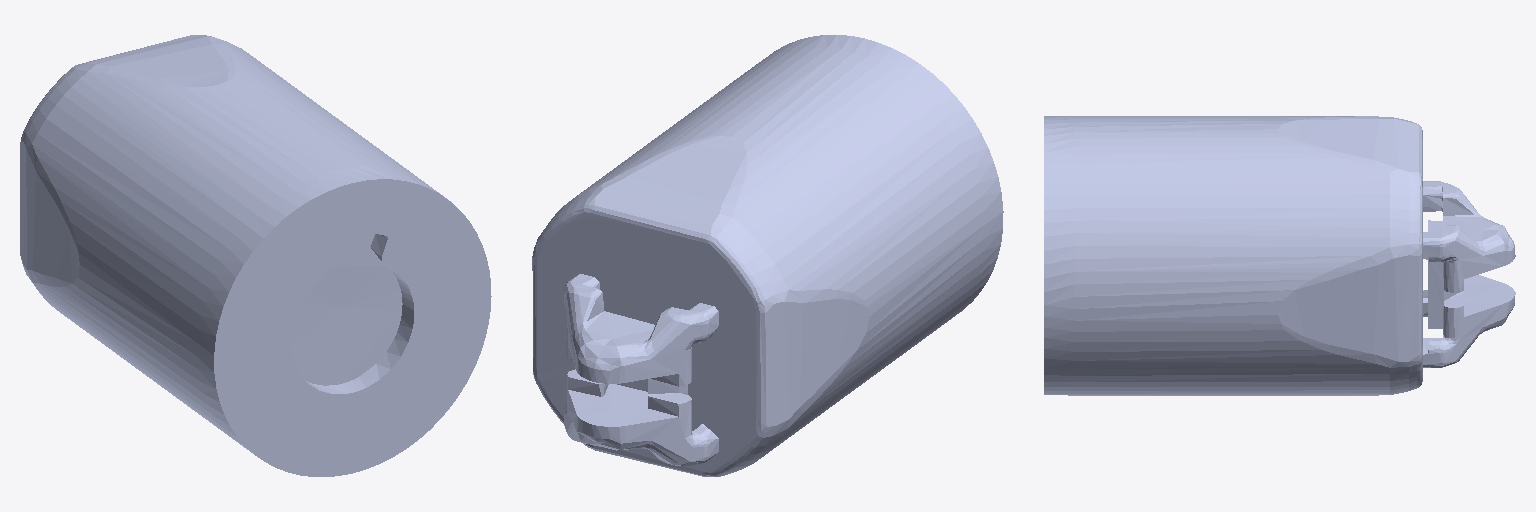
The robot description file, URDF, robot "j2s6s300":
<?xml version="1.0" ?>
<!-- =================================================================================== -->
<!-- |    This document was autogenerated by xacro from j2s6s300_standalone.xacro      | -->
<!-- |    EDITING THIS FILE BY HAND IS NOT RECOMMENDED                                 | -->
<!-- =================================================================================== -->
<!-- j2s6_3 refers to jaco v2 6DOF spherical 3fingers -->
<robot name="j2s6s300" xmlns:body="http://playerstage.sourceforge.net/gazebo/xmlschema/#body" xmlns:controller="http://playerstage.sourceforge.net/gazebo/xmlschema/#controller" xmlns:gazebo="http://playerstage.sourceforge.net/gazebo/xmlschema/#gz" xmlns:geom="http://playerstage.sourceforge.net/gazebo/xmlschema/#geom" xmlns:interface="http://playerstage.sourceforge.net/gazebo/xmlschema/#interface" xmlns:joint="http://playerstage.sourceforge.net/gazebo/xmlschema/#joint" xmlns:model="http://playerstage.sourceforge.net/gazebo/xmlschema/#model" xmlns:physics="http://playerstage.sourceforge.net/gazebo/xmlschema/#physics" xmlns:renderable="http://playerstage.sourceforge.net/gazebo/xmlschema/#renderable" xmlns:rendering="http://playerstage.sourceforge.net/gazebo/xmlschema/#rendering" xmlns:sensor="http://playerstage.sourceforge.net/gazebo/xmlschema/#sensor" xmlns:xi="http://www.w3.org/2001/XInclude">
  <!-- links      		mesh_no
   base           		0
   shoulder       		1
   arm            		2
   forearm        		3
   wrist          		4
   arm_mico       		5
   arm_half1 (7dof)		6
   arm_half2 (7dof)		7
   wrist_spherical_1  8
   wrist_spherical_2  9

   hand 3 finger  		55
   hand_2finger   		56
   finger_proximal		57
   finger_distal      58
-->
  <!-- links      		mesh_no
   base           		0
   shoulder       		1
   arm            		2
   forearm        		3
   wrist          		4
   arm_mico       		5
   arm_half1 (7dof)		6
   arm_half2 (7dof)		7
   wrist_spherical_1  8
   wrist_spherical_2  9

   hand 3 finger  		55
   hand_2finger   		56
   finger_proximal		57
   finger_distal      58
-->

  <link name="world"/>

  <link name="j2s6s300_link_base">
    <visual>
      <geometry>
        <mesh filename="meshes/jaco2arm/base.dae"/>
      </geometry>
      <material name="carbon_fiber">
        <color rgba="0.792156862745098 0.819607843137255 0.933333333333333 1"/>
      </material>
    </visual>
    <collision>
      <geometry>
        <mesh filename="meshes/jaco2arm/base.dae"/>
      </geometry>
    </collision>
    <inertial>
      <mass value="0.46784"/>
      <origin rpy="0 0 0" xyz="0 0 0.1255"/>
      <inertia ixx="0.000951270861568" ixy="0" ixz="0" iyy="0.000951270861568" iyz="0" izz="0.00037427200000000004"/>
    </inertial>
  </link>
  <joint name="j2s6s300_joint_base" type="fixed">
    <parent link="world"/>
    <child link="j2s6s300_link_base"/>
    <axis xyz="0 0 0"/>
    <limit effort="0" lower="0" upper="0" velocity="0"/>
    <origin rpy="0 0 0" xyz="0 0 0"/>
    <dynamics damping="0.0" friction="0.0"/>
  </joint>
  <link name="j2s6s300_link_1">
    <visual>
      <geometry>
        <mesh filename="meshes/jaco2arm/shoulder.dae"/>
      </geometry>
      <material name="carbon_fiber">
        <color rgba="0.792156862745098 0.819607843137255 0.933333333333333 1"/>
      </material>
    </visual>
    <visual>
      <geometry>
        <mesh filename="meshes/jaco2arm/ring_big.dae"/>
      </geometry>
    </visual>
    <collision>
      <geometry>
        <mesh filename="meshes/jaco2arm/shoulder.dae"/>
      </geometry>
    </collision>
    <inertial>
      <mass value="0.7477"/>
      <origin xyz="0 -0.002 -0.0605"/>
      <inertia ixx="0.0015203172520400004" ixy="0" ixz="0" iyy="0.0015203172520400004" iyz="0" izz="0.00059816"/>
    </inertial>
  </link>
  <joint name="j2s6s300_joint_1" type="continuous">
    <parent link="j2s6s300_link_base"/>
    <child link="j2s6s300_link_1"/>
    <axis xyz="0 0 1"/>
    <limit effort="40" lower="-6.283185307179586" upper="6.283185307179586" velocity="0.6283185307179586"/>
    <origin rpy="0 3.141592653589793 0" xyz="0 0 0.15675"/>
    <dynamics damping="0.0" friction="0.0"/>
  </joint>


  <link name="j2s6s300_link_2">
    <visual>
      <geometry>
        <mesh filename="meshes/jaco2arm/arm.dae"/>
      </geometry>
      <material name="carbon_fiber">
        <color rgba="0.792156862745098 0.819607843137255 0.933333333333333 1"/>
      </material>
    </visual>
    <visual>
      <geometry>
        <mesh filename="meshes/jaco2arm/ring_big.dae"/>
      </geometry>
    </visual>
    <collision>
      <geometry>
        <mesh filename="meshes/jaco2arm/arm.dae"/>
      </geometry>
    </collision>
    <inertial>
      <mass value="0.99"/>
      <origin xyz="0 -0.2065 -0.01"/>
      <inertia ixx="0.010502207990999999" ixy="0" ixz="0" iyy="0.0007920000000000001" iyz="0" izz="0.010502207990999999"/>
    </inertial>
  </link>
  <joint name="j2s6s300_joint_2" type="revolute">
    <parent link="j2s6s300_link_1"/>
    <child link="j2s6s300_link_2"/>
    <axis xyz="0 0 1"/>
    <limit effort="80" lower="0.8203047484373349" upper="5.462880558742252" velocity="0.6283185307179586"/>
    <origin rpy="-1.5707963267948966 0 3.141592653589793" xyz="0 0.0016 -0.11875"/>
    <dynamics damping="0.0" friction="0.0"/>
  </joint>

  <link name="j2s6s300_link_3">
    <visual>
      <geometry>
        <mesh filename="meshes/jaco2arm/forearm.dae"/>
      </geometry>
      <material name="carbon_fiber">
        <color rgba="0.792156862745098 0.819607843137255 0.933333333333333 1"/>
      </material>
    </visual>
    <visual>
      <geometry>
        <mesh filename="meshes/jaco2arm/ring_big.dae"/>
      </geometry>
    </visual>
    <collision>
      <geometry>
        <mesh filename="meshes/jaco2arm/forearm.dae"/>
      </geometry>
    </collision>
    <inertial>
      <mass value="0.6763"/>
      <origin xyz="0 0.081 -0.0086"/>
      <inertia ixx="0.0014202243190800001" ixy="0" ixz="0" iyy="0.000304335" iyz="0" izz="0.0014202243190800001"/>
    </inertial>
  </link>
  <joint name="j2s6s300_joint_3" type="revolute">
    <parent link="j2s6s300_link_2"/>
    <child link="j2s6s300_link_3"/>
    <axis xyz="0 0 1"/>
    <limit effort="40" lower="0.33161255787892263" upper="5.951572749300664" velocity="0.6283185307179586"/>
    <origin rpy="0 3.141592653589793 0" xyz="0 -0.410 0"/>
    <dynamics damping="0.0" friction="0.0"/>
  </joint>

  <link name="j2s6s300_link_4">
    <visual>
      <geometry>
        <mesh filename="meshes/jaco2arm/wrist_spherical_1.dae"/>
      </geometry>
      <material name="carbon_fiber">
        <color rgba="0.792156862745098 0.819607843137255 0.933333333333333 1"/>
      </material>
    </visual>
    <visual>
      <geometry>
        <mesh filename="meshes/jaco2arm/ring_small.dae"/>
      </geometry>
    </visual>
    <collision>
      <geometry>
        <mesh filename="meshes/jaco2arm/wrist_spherical_1.dae"/>
      </geometry>
    </collision>
    <inertial>
      <mass value="0.463"/>
      <origin xyz="0 0.0028848942 -0.0541932613"/>
      <inertia ixx="0.0004321316048000001" ixy="0" ixz="0" iyy="0.0004321316048000001" iyz="0" izz="9.260000000000001e-05"/>
    </inertial>
  </link>
  <joint name="j2s6s300_joint_4" type="continuous">
    <parent link="j2s6s300_link_3"/>
    <child link="j2s6s300_link_4"/>
    <axis xyz="0 0 1"/>
    <limit effort="20" lower="-6.283185307179586" upper="6.283185307179586" velocity="0.8377580409572781"/>
    <origin rpy="-1.5707963267948966 0 3.141592653589793" xyz="0 0.2073 -0.0114"/>
    <dynamics damping="0.0" friction="0.0"/>
  </joint>

  <link name="j2s6s300_link_5">
    <visual>
      <geometry>
        <mesh filename="meshes/jaco2arm/wrist_spherical_2.dae"/>
      </geometry>
      <material name="carbon_fiber">
        <color rgba="0.792156862745098 0.819607843137255 0.933333333333333 1"/>
      </material>
    </visual>
    <visual>
      <geometry>
        <mesh filename="meshes/jaco2arm/ring_small.dae"/>
      </geometry>
    </visual>
    <collision>
      <geometry>
        <mesh filename="meshes/jaco2arm/wrist_spherical_2.dae"/>
      </geometry>
    </collision>
    <inertial>
      <mass value="0.463"/>
      <origin xyz="0 0.0497208855 -0.0028562765"/>
      <inertia ixx="0.0004321316048000001" ixy="0" ixz="0" iyy="9.260000000000001e-05" iyz="0" izz="0.0004321316048000001"/>
    </inertial>
  </link>
  <joint name="j2s6s300_joint_5" type="revolute">
    <parent link="j2s6s300_link_4"/>
    <child link="j2s6s300_link_5"/>
    <axis xyz="0 0 1"/>
    <limit effort="20" lower="0.5235987755982988" upper="5.759586531581287" velocity="0.8377580409572781"/>
    <origin rpy="1.5707963267948966 0 3.141592653589793" xyz="0 0 -0.10375"/>
    <dynamics damping="0.0" friction="0.0"/>
  </joint>

  <link name="j2s6s300_link_6">
    <visual>
      <geometry>
        <mesh filename="meshes/jaco2arm/hand_3finger.dae"/>
      </geometry>
      <material name="carbon_fiber">
        <color rgba="0.792156862745098 0.819607843137255 0.933333333333333 1"/>
      </material>
    </visual>
    <visual>
      <geometry>
        <mesh filename="meshes/jaco2arm/ring_small.dae"/>
      </geometry>
    </visual>
    <collision>
      <geometry>
        <mesh filename="meshes/jaco2arm/hand_3finger.dae"/>
      </geometry>
    </collision>
    <inertial>
      <mass value="0.99"/>
      <origin xyz="0 0 -0.06"/>
      <inertia ixx="0.00034532361869999995" ixy="0" ixz="0" iyy="0.00034532361869999995" iyz="0" izz="0.0005815999999999999"/>
    </inertial>
  </link>
  <joint name="j2s6s300_joint_6" type="continuous">
    <parent link="j2s6s300_link_5"/>
    <child link="j2s6s300_link_6"/>
    <axis xyz="0 0 1"/>
    <limit effort="20" lower="-6.283185307179586" upper="6.283185307179586" velocity="0.8377580409572781"/>
    <origin rpy="-1.5707963267948966 0 3.141592653589793" xyz="0 0.10375 0"/>
    <dynamics damping="0.0" friction="0.0"/>
  </joint>

  <link name="j2s6s300_link_finger_1">
    <visual>
      <geometry>
        <mesh filename="meshes/jaco2arm/finger_proximal.dae"/>
      </geometry>
      <material name="carbon_fiber">
        <color rgba="0.792156862745098 0.819607843137255 0.933333333333333 1"/>
      </material>
    </visual>
    <collision>
      <geometry>
        <mesh filename="meshes/jaco2arm/finger_proximal.dae"/>
      </geometry>
    </collision>
    <inertial>
      <mass value="0.01"/>
      <origin xyz="0.022 0 0"/>
      <inertia ixx="7.8999684e-07" ixy="0" ixz="0" iyy="7.8999684e-07" iyz="0" izz="8e-08"/>
    </inertial>
  </link>
  <joint name="j2s6s300_joint_finger_1" type="revolute">
    <parent link="j2s6s300_link_6"/>
    <child link="j2s6s300_link_finger_1"/>
    <axis xyz="0 0 1"/>
    <origin rpy="-1.570796327 .649262481663582 1.35961148639407" xyz="0.00279 0.03126 -0.11467"/>
    <limit effort="2" lower="0" upper="1.51" velocity="1"/>
  </joint>

  <link name="j2s6s300_link_finger_tip_1">
    <visual>
      <geometry>
        <mesh filename="meshes/jaco2arm/finger_distal.dae"/>
      </geometry>
      <material name="carbon_fiber">
        <color rgba="0.792156862745098 0.819607843137255 0.933333333333333 1"/>
      </material>
    </visual>
    <collision>
      <geometry>
        <mesh filename="meshes/jaco2arm/finger_distal.dae"/>
      </geometry>
    </collision>
    <inertial>
      <mass value="0.01"/>
      <origin xyz="0.022 0 0"/>
      <inertia ixx="7.8999684e-07" ixy="0" ixz="0" iyy="7.8999684e-07" iyz="0" izz="8e-08"/>
    </inertial>
  </link>
  <joint name="j2s6s300_joint_finger_tip_1" type="revolute">
    <parent link="j2s6s300_link_finger_1"/>
    <child link="j2s6s300_link_finger_tip_1"/>
    <axis xyz="0 0 1"/>
    <origin rpy="0 0 0" xyz="0.044 -0.003 0"/>
    <limit effort="2" lower="0" upper="2" velocity="1"/>
  </joint>
      <joint name="ee1_fixed_joint" type="fixed">
        <parent link="j2s6s300_link_finger_tip_1"/>
        <child link="ee1_link"/>
        <origin rpy="0.0 0.0 1.57079632679" xyz="0.0 0.0922 0.0"/>
        <!--origin rpy="0.0 0.0 0.0" xyz="0.0 0.0922 0.0"/-->
      </joint>
      <link name="ee1_link">
        <collision>
          <geometry>
            <box size="0.01 0.01 0.01"/>
          </geometry>
          <origin rpy="0 0 0" xyz="0 0 0"/>
        </collision>
      </link>


  <link name="j2s6s300_link_finger_2">
    <visual>
      <geometry>
        <mesh filename="meshes/jaco2arm/finger_proximal.dae"/>
      </geometry>
      <material name="carbon_fiber">
        <color rgba="0.792156862745098 0.819607843137255 0.933333333333333 1"/>
      </material>
    </visual>
    <collision>
      <geometry>
        <mesh filename="meshes/jaco2arm/finger_proximal.dae"/>
      </geometry>
    </collision>
    <inertial>
      <mass value="0.01"/>
      <origin xyz="0.022 0 0"/>
      <inertia ixx="7.8999684e-07" ixy="0" ixz="0" iyy="7.8999684e-07" iyz="0" izz="8e-08"/>
    </inertial>
  </link>
  <joint name="j2s6s300_joint_finger_2" type="revolute">
    <parent link="j2s6s300_link_6"/>
    <child link="j2s6s300_link_finger_2"/>
    <axis xyz="0 0 1"/>
    <origin rpy="-1.570796327 .649262481663582 -1.38614049188413" xyz="0.02226 -0.02707 -0.11482"/>
    <limit effort="2" lower="0" upper="1.51" velocity="1"/>
  </joint>

  <link name="j2s6s300_link_finger_tip_2">
    <visual>
      <geometry>
        <mesh filename="meshes/jaco2arm/finger_distal.dae"/>
      </geometry>
      <material name="carbon_fiber">
        <color rgba="0.792156862745098 0.819607843137255 0.933333333333333 1"/>
      </material>
    </visual>
    <collision>
      <geometry>
        <mesh filename="meshes/jaco2arm/finger_distal.dae"/>
      </geometry>
    </collision>
    <inertial>
      <mass value="0.01"/>
      <origin xyz="0.022 0 0"/>
      <inertia ixx="7.8999684e-07" ixy="0" ixz="0" iyy="7.8999684e-07" iyz="0" izz="8e-08"/>
    </inertial>
  </link>
  <joint name="j2s6s300_joint_finger_tip_2" type="revolute">
    <parent link="j2s6s300_link_finger_2"/>
    <child link="j2s6s300_link_finger_tip_2"/>
    <axis xyz="0 0 1"/>
    <origin rpy="0 0 0" xyz="0.044 -0.003 0"/>
    <limit effort="2" lower="0" upper="2" velocity="1"/>
  </joint>
      <joint name="ee2_fixed_joint" type="fixed">
        <parent link="j2s6s300_link_finger_tip_2"/>
        <child link="ee2_link"/>
        <origin rpy="0.0 0.0 1.57079632679" xyz="0.0 0.0922 0.0"/>
        <!--origin rpy="0.0 0.0 0.0" xyz="0.0 0.0922 0.0"/-->
      </joint>
      <link name="ee2_link">
        <collision>
          <geometry>
            <box size="0.01 0.01 0.01"/>
          </geometry>
          <origin rpy="0 0 0" xyz="0 0 0"/>
        </collision>
      </link>


  <link name="j2s6s300_link_finger_3">
    <visual>
      <geometry>
        <mesh filename="meshes/jaco2arm/finger_proximal.dae"/>
      </geometry>
      <material name="carbon_fiber">
        <color rgba="0.792156862745098 0.819607843137255 0.933333333333333 1"/>
      </material>
    </visual>
    <collision>
      <geometry>
        <mesh filename="meshes/jaco2arm/finger_proximal.dae"/>
      </geometry>
    </collision>
    <inertial>
      <mass value="0.01"/>
      <origin xyz="0.022 0 0"/>
      <inertia ixx="7.8999684e-07" ixy="0" ixz="0" iyy="7.8999684e-07" iyz="0" izz="8e-08"/>
    </inertial>
  </link>
  <joint name="j2s6s300_joint_finger_3" type="revolute">
    <parent link="j2s6s300_link_6"/>
    <child link="j2s6s300_link_finger_3"/>
    <axis xyz="0 0 1"/>
    <origin rpy="-1.570796327 .649262481663582 -1.75545216211587" xyz="-0.02226 -0.02707 -0.11482"/>
    <limit effort="2" lower="0" upper="1.51" velocity="1"/>
  </joint>

  <link name="j2s6s300_link_finger_tip_3">
    <visual>
      <geometry>
        <mesh filename="meshes/jaco2arm/finger_distal.dae"/>
      </geometry>
      <material name="carbon_fiber">
        <color rgba="0.792156862745098 0.819607843137255 0.933333333333333 1"/>
      </material>
    </visual>
    <collision>
      <geometry>
        <mesh filename="meshes/jaco2arm/finger_distal.dae"/>
      </geometry>
    </collision>
    <inertial>
      <mass value="0.01"/>
      <origin xyz="0.022 0 0"/>
      <inertia ixx="7.8999684e-07" ixy="0" ixz="0" iyy="7.8999684e-07" iyz="0" izz="8e-08"/>
    </inertial>
  </link>
  <joint name="j2s6s300_joint_finger_tip_3" type="revolute">
    <parent link="j2s6s300_link_finger_3"/>
    <child link="j2s6s300_link_finger_tip_3"/>
    <axis xyz="0 0 1"/>
    <origin rpy="0 0 0" xyz="0.044 -0.003 0"/>
    <limit effort="2" lower="0" upper="2" velocity="1"/>
  </joint>
      <joint name="ee3_fixed_joint" type="fixed">
        <parent link="j2s6s300_link_finger_tip_3"/>
        <child link="ee3_link"/>
        <origin rpy="0.0 0.0 1.57079632679" xyz="0.0 0.0922 0.0"/>
        <!--origin rpy="0.0 0.0 0.0" xyz="0.0 0.0922 0.0"/-->
      </joint>
      <link name="ee3_link">
        <collision>
          <geometry>
            <box size="0.01 0.01 0.01"/>
          </geometry>
          <origin rpy="0 0 0" xyz="0 0 0"/>
        </collision>
      </link>
</robot>

--- What the picture shows (computed from the rendered views, not written in the file) ---
3 views of the same robot in one strip: view 1: azimuth 30°, elevation 25°; view 2: azimuth 150°, elevation 25°; view 3: azimuth 270°, elevation 25° (orthographic).
Model j2s6s300 with 17 links and 16 joints (9 revolute, 3 continuous, 4 fixed), rooted at world, posed joints at zero except 3 at the middle of their limits (j2s6s300_joint_2 = 3.14, j2s6s300_joint_3 = 3.14, j2s6s300_joint_5 = 3.14).
Links seen in each view (by area): view 1: j2s6s300_link_3; view 2: j2s6s300_link_3; view 3: j2s6s300_link_3.
Link boxes in pixels (x1=…): j2s6s300_link_3: x1=20, y1=35, x2=491, y2=476; j2s6s300_link_3: x1=532, y1=35, x2=1003, y2=476; j2s6s300_link_3: x1=1044, y1=116, x2=1515, y2=395.
Size in the robot's own frame: 1.35 by 2.28 by 1.35 metres.
Meshes: 11 distinct files referenced, 1 mesh visuals loaded (1 Collada DAE); not drawn: 18 (reference not matched to a file when rendering).